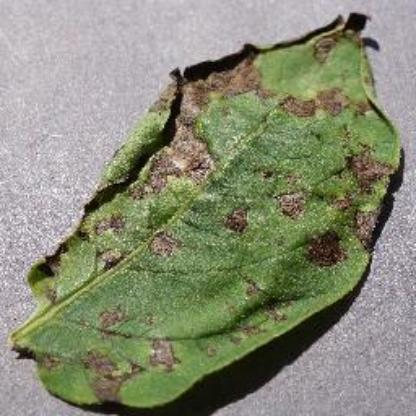Early-Blight: (8, 10, 402, 410)
